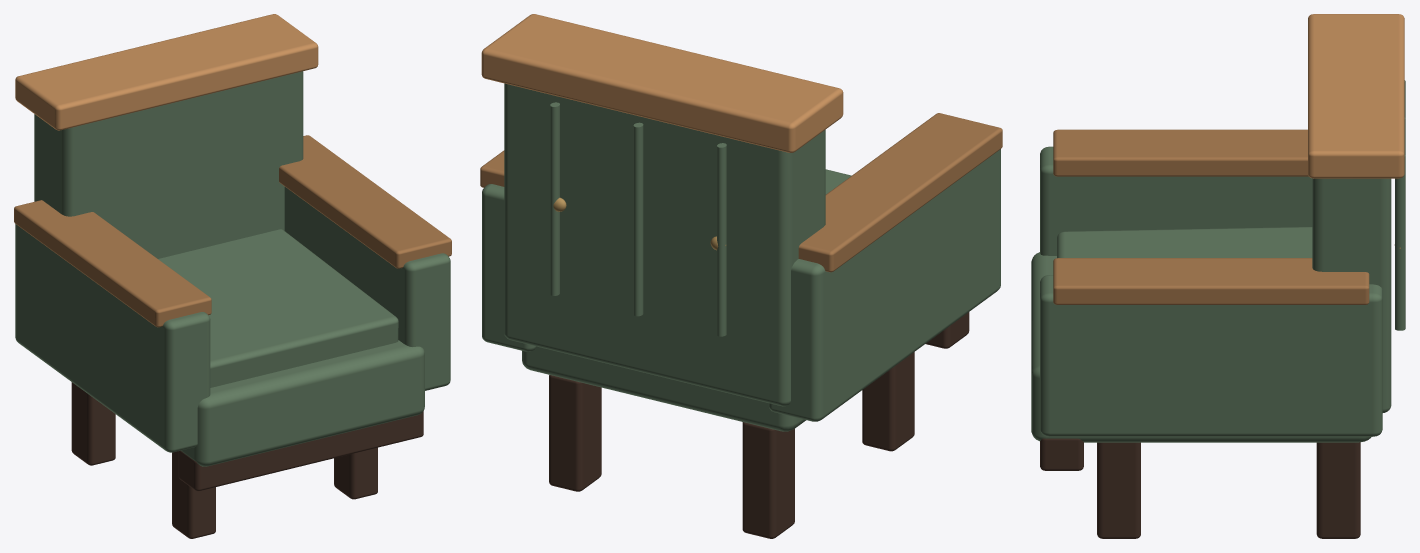
File: detail_armchair.glb
The picture shows the model from 3 angles, left to right: view 1: azimuth 30°, elevation 25°; view 2: azimuth 150°, elevation 25°; view 3: azimuth 270°, elevation 25°; orthographic projection. The views are drawn at different scales.
Parts seen in each view (by area): view 1: cloth, wood; view 2: cloth, wood; view 3: cloth, wood.
Boxes of the visible parts, x1=… form: cloth: x1=14, y1=71, x2=451, y2=466; wood: x1=15, y1=14, x2=423, y2=538; cloth: x1=480, y1=83, x2=1002, y2=431; wood: x1=481, y1=14, x2=969, y2=538; cloth: x1=1031, y1=80, x2=1405, y2=442; wood: x1=1040, y1=14, x2=1404, y2=538.
Bounding box in the file's own units: 1 × 1.2 × 1.
